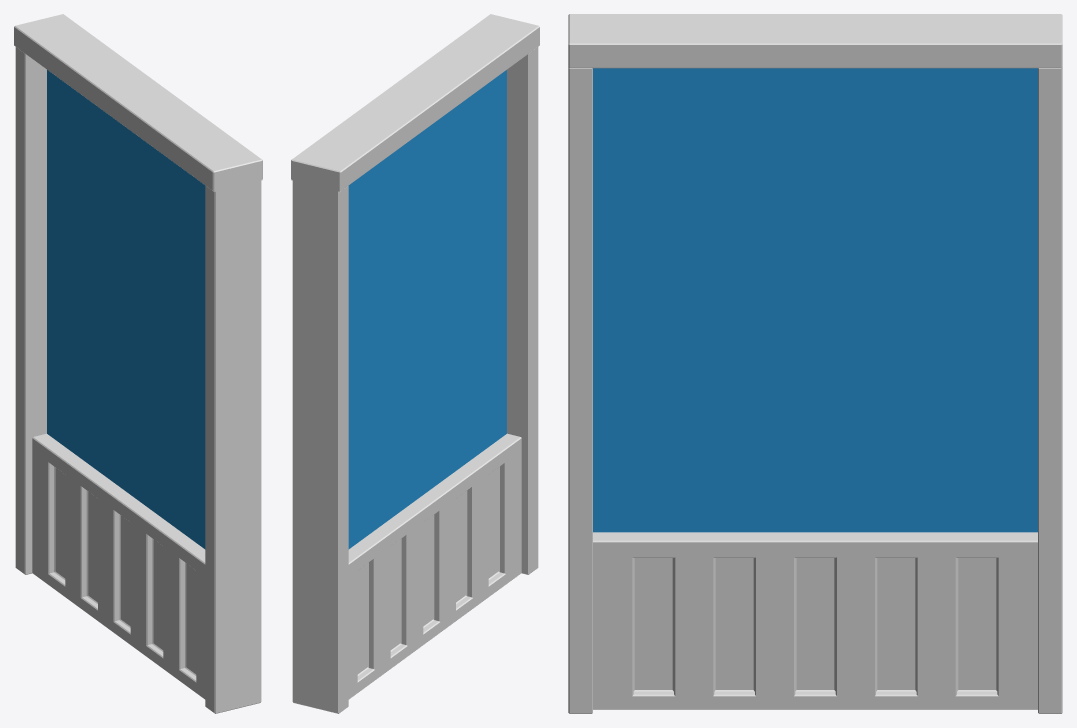
The model's file is WALLS1.fbx.
The picture shows the model from 3 angles, left to right: view 1: azimuth 30°, elevation 25°; view 2: azimuth 150°, elevation 25°; view 3: azimuth 270°, elevation 25°; orthographic projection. The views are drawn at different scales.
Parts seen in each view (by area): view 1: Wall1; view 2: Wall1; view 3: Wall1.
Part boxes in pixels (x1=…): Wall1: x1=14, y1=14, x2=262, y2=713; Wall1: x1=291, y1=14, x2=539, y2=713; Wall1: x1=568, y1=14, x2=1062, y2=713.
Bounding box in the file's own units: 28.99 × 300 × 200.
